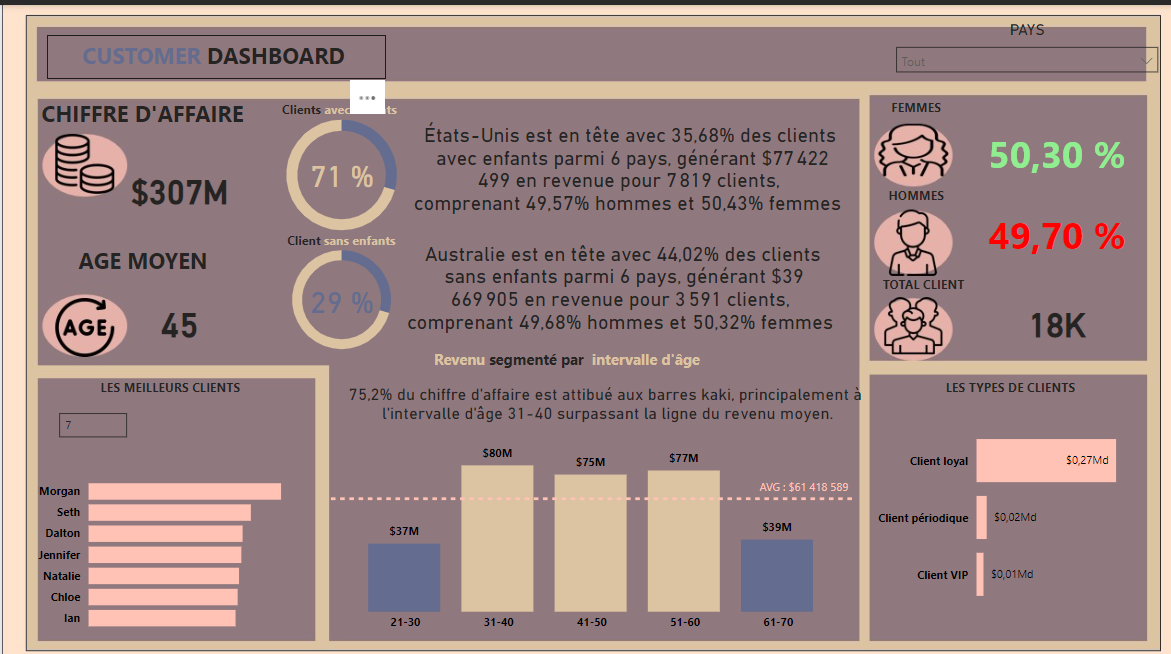

The dashboard page shown, as its layout file describes it:
{"tool":"powerbi","page":{"name":"Page 1","canvas":[1280,720],"ordinal":0},"visuals":[{"type":"card","fields":{"Values":["-mesures.revenu total"]},"box":[112,160,160,80],"z":0},{"type":"clusteredColumnChart","fields":{"Y":["-mesures.revenu total"],"Category":["DimCustomer.age categorie"]},"box":[352,464,576,224],"z":1000},{"type":"card","fields":{"Values":["-mesures.avg caption"]},"box":[304,400,704,64],"z":2000},{"type":"donutChart","fields":{"Y":["-mesures.% c withow children","-mesures.% cmc"]},"box":[288.6,247.2,160,144],"z":3000},{"type":"donutChart","fields":{"Y":["-mesures.% c withow children","-mesures.% cmc"]},"box":[288,96,160,176],"z":4000},{"type":"card","fields":{"Values":["-mesures.% c withow children"]},"box":[320.6,295.2,96,48],"z":5000},{"type":"card","fields":{"Values":["-mesures.% cmc"]},"box":[320,160,96,48],"z":6000},{"type":"textbox","box":[288,240,160,32],"z":7000},{"type":"textbox","box":[272,80,192,48],"z":8000},{"type":"textbox","box":[464,368,320,32],"z":9000},{"type":"card","fields":{"Values":["-mesures.caption customer without children"]},"box":[432,240,480,128],"z":10000},{"type":"card","fields":{"Values":["-mesures.caption customer without children"]},"box":[432,112,496,128],"z":11000},{"type":"clusteredBarChart","fields":{"Category":["DimCustomer.customer type"],"Y":["-mesures.revenu total"]},"box":[944,432,304,240],"z":12000},{"type":"slicer","fields":{"Values":["Client dynamic.Client dynamic"]},"box":[48,432,240,64],"z":13000},{"type":"clusteredBarChart","fields":{"Y":["-mesures.customer dynamic"],"Category":["DimCustomer.FirstName"]},"box":[32,496,304,192],"z":14000},{"type":"card","fields":{"Values":["-mesures.%homme"]},"box":[1056,208,176,80],"z":15000},{"type":"card","fields":{"Values":["-mesures.%femme"]},"box":[1056,112,176,96],"z":16000},{"type":"card","fields":{"Values":["-mesures.age moyen"]},"box":[112,304,160,80],"z":17000},{"type":"card","fields":{"Values":["-mesures.nbre de client"]},"box":[1056,304,176,80],"z":18000},{"type":"textbox","box":[944,96,96,32],"z":19000},{"type":"textbox","box":[944,192,96,32],"z":20000},{"type":"textbox","box":[48,256,208,48],"z":21000},{"type":"textbox","box":[32,96,240,48],"z":22000},{"type":"textbox","box":[944,288,112,32],"z":23000},{"type":"textbox","box":[48,32,368,48],"z":24000},{"type":"slicer","title":"PAYS","fields":{"Values":["DimGeography.CountryName"]},"box":[960,16,304,64],"z":25000},{"type":"textbox","box":[32,400,304,32],"z":26000},{"type":"textbox","box":[944,400,304,32],"z":27000}]}

Visuals, with their boxes in screenshot pixels (x1, y1, x2, y2), scaled from the page's 1280x720 canvas onto the 1171x654 screenshot:
card - -mesures.revenu total: (102, 145, 249, 218)
clusteredColumnChart - -mesures.revenu total x DimCustomer.age categorie: (322, 421, 849, 625)
card - -mesures.avg caption: (278, 363, 922, 421)
donutChart - -mesures.% c withow children x -mesures.% cmc: (264, 225, 410, 355)
donutChart - -mesures.% c withow children x -mesures.% cmc: (263, 87, 410, 247)
card - -mesures.% c withow children: (293, 268, 381, 312)
card - -mesures.% cmc: (293, 145, 381, 189)
textbox: (263, 218, 410, 247)
textbox: (249, 73, 424, 116)
textbox: (424, 334, 717, 363)
card - -mesures.caption customer without children: (395, 218, 834, 334)
card - -mesures.caption customer without children: (395, 102, 849, 218)
clusteredBarChart - DimCustomer.customer type x -mesures.revenu total: (864, 392, 1142, 610)
slicer - Client dynamic.Client dynamic: (44, 392, 263, 451)
clusteredBarChart - -mesures.customer dynamic x DimCustomer.FirstName: (29, 451, 307, 625)
card - -mesures.%homme: (966, 189, 1127, 262)
card - -mesures.%femme: (966, 102, 1127, 189)
card - -mesures.age moyen: (102, 276, 249, 349)
card - -mesures.nbre de client: (966, 276, 1127, 349)
textbox: (864, 87, 951, 116)
textbox: (864, 174, 951, 203)
textbox: (44, 233, 234, 276)
textbox: (29, 87, 249, 131)
textbox: (864, 262, 966, 291)
textbox: (44, 29, 381, 73)
"PAYS" slicer: (878, 15, 1156, 73)
textbox: (29, 363, 307, 392)
textbox: (864, 363, 1142, 392)
